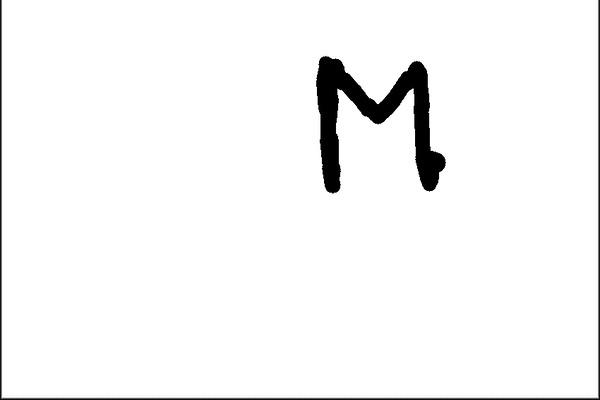M: (310, 44, 445, 194)
